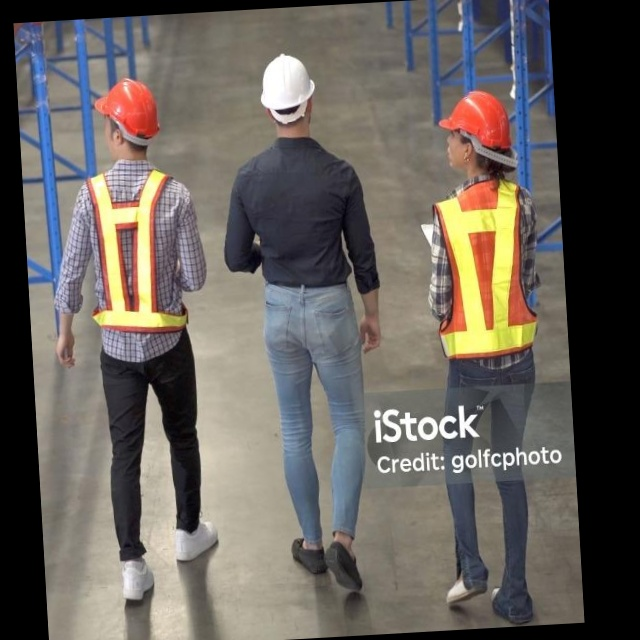Con_Casco: (438, 90, 514, 183), (93, 73, 165, 161), (259, 50, 321, 142)
Con_Chaleco: (418, 174, 549, 362), (80, 163, 197, 337)
Sin_Chaleco: (236, 138, 366, 293)
